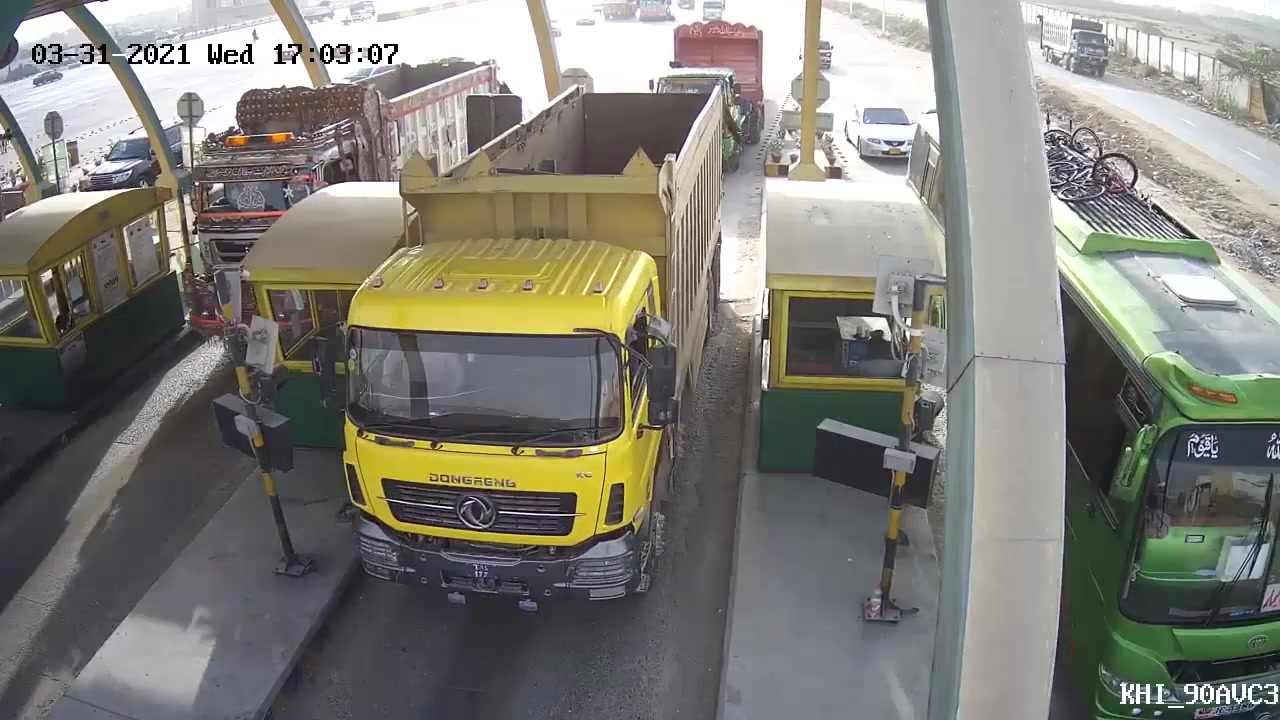F5: (339, 82, 730, 614)
